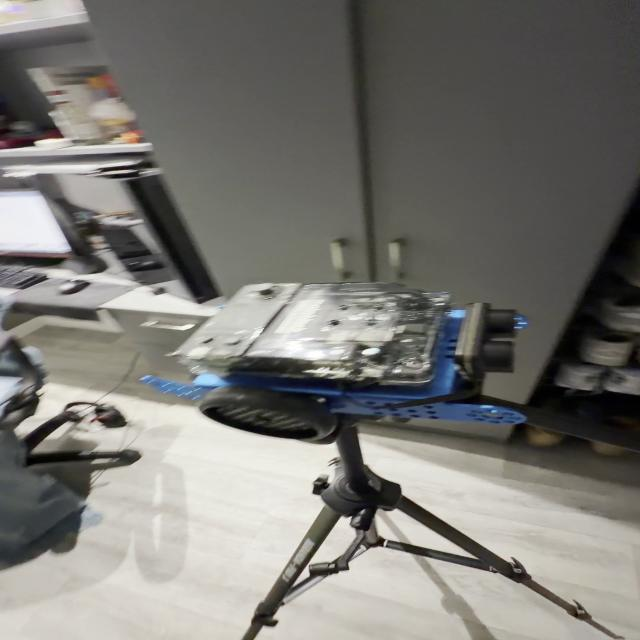mbot-detection: (130, 278, 540, 444)
